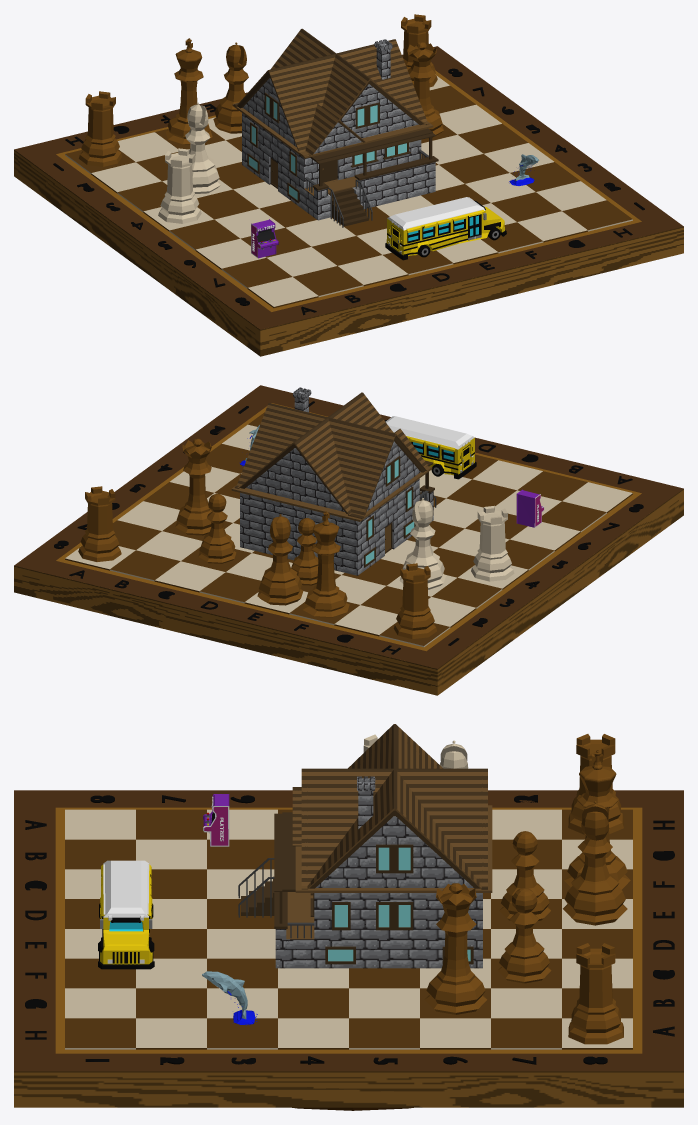
3 views of the same model, one above another, from view 1: azimuth 30°, elevation 25°; view 2: azimuth 150°, elevation 25°; view 3: azimuth 270°, elevation 25° (orthographic). The views are drawn at different scales.
Visible parts, largest first — view 1: Cube.002, Cube.586, VEHICLES_SCHOOL_BUS, OBJRANDOM_ARCADE; view 2: Cube.002, Cube.586, VEHICLES_SCHOOL_BUS, OBJRANDOM_ARCADE; view 3: Cube.002, Cube.586, VEHICLES_SCHOOL_BUS, OBJRANDOM_ARCADE, ANIMAL_DELFIN.
Part boxes in pixels (x1,y1,x2,y2): Cube.002: (14,14,683,356); Cube.586: (232,28,438,227); VEHICLES_SCHOOL_BUS: (385,197,506,260); OBJRANDOM_ARCADE: (251,219,278,258); Cube.002: (14,385,683,695); Cube.586: (231,387,436,575); VEHICLES_SCHOOL_BUS: (385,416,476,479); OBJRANDOM_ARCADE: (516,489,544,527); Cube.002: (14,734,683,1107); Cube.586: (238,724,492,968); VEHICLES_SCHOOL_BUS: (98,860,154,969); OBJRANDOM_ARCADE: (203,794,229,846); ANIMAL_DELFIN: (202,971,257,1025).
Bounding box in the file's own units: 3981 × 1560 × 4012.
42 materials, 3 textured.
